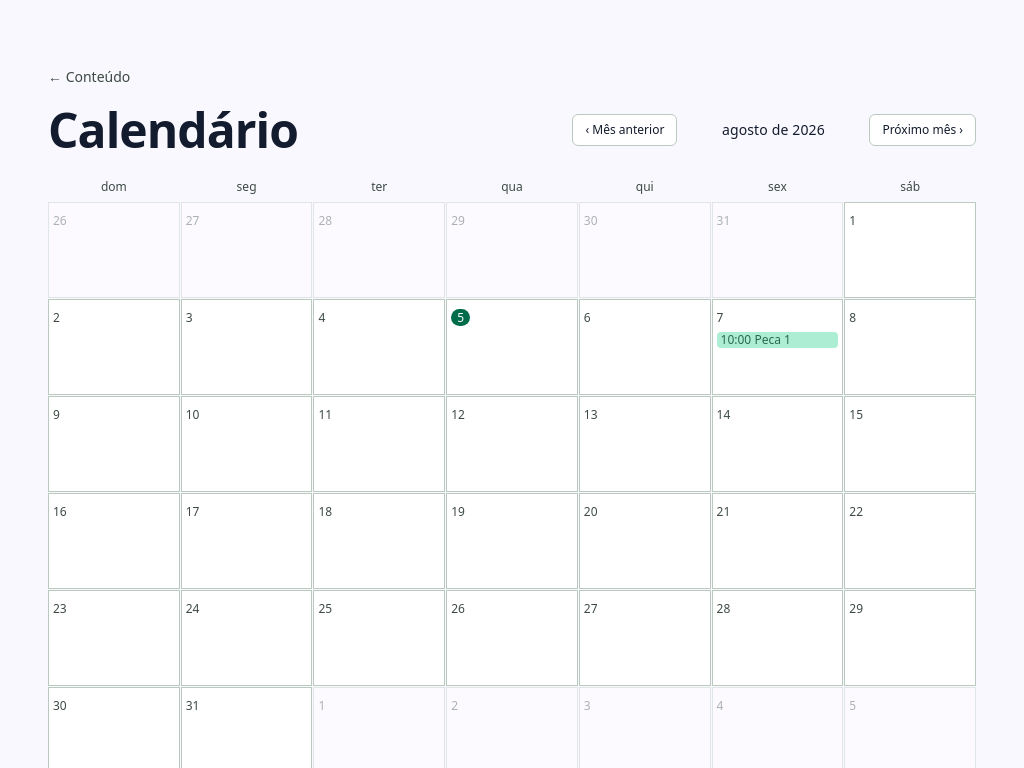
Test case: navegar para o mês anterior esconde a peça de agosto
The image size is (1024, 768).
Click the button "‹ Mês anterior" at (625, 130), box [572,114,677,146]
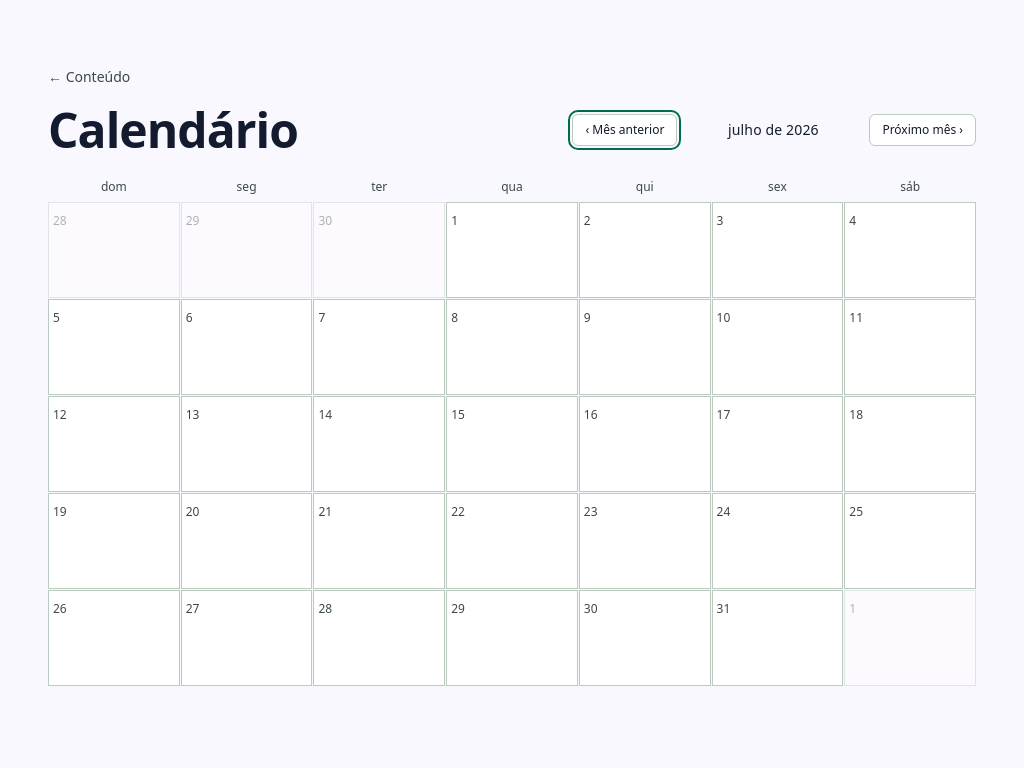
Check: the text "julho de 2026" is shown, box [728,120,819,139]
Check: the button "Peca 1" is gone
